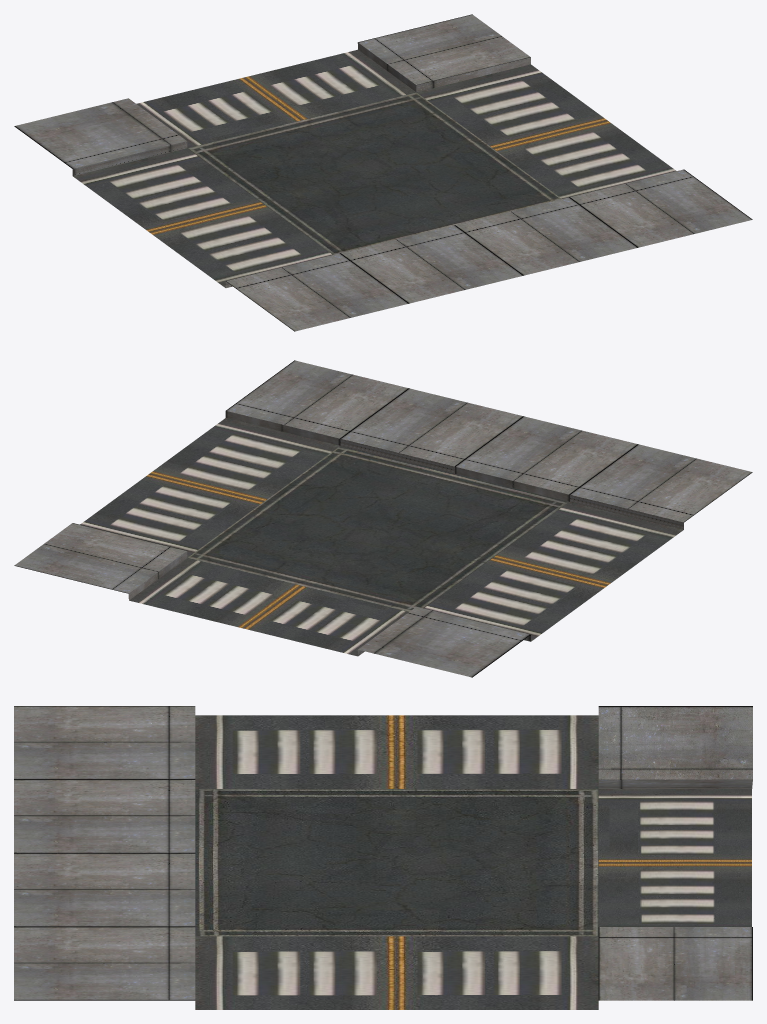
File: square4.glb
3 renders of one model, top to bottom at view 1: azimuth 30°, elevation 25°; view 2: azimuth 150°, elevation 25°; view 3: azimuth 270°, elevation 25°, orthographic. The views are drawn at different scales.
Parts seen in each view (by area): view 1: Object_6.002, Object_5.002, Object_4.002; view 2: Object_6.002, Object_5.002, Object_4.002; view 3: Object_5.002, Object_6.002, Object_4.002.
Part boxes in pixels (bbox=[...]): Object_6.002: bbox=[14, 14, 752, 331]; Object_5.002: bbox=[73, 49, 676, 287]; Object_4.002: bbox=[187, 92, 561, 254]; Object_6.002: bbox=[14, 360, 752, 677]; Object_5.002: bbox=[80, 418, 683, 656]; Object_4.002: bbox=[187, 446, 568, 611]; Object_5.002: bbox=[195, 715, 751, 1009]; Object_6.002: bbox=[14, 706, 752, 1000]; Object_4.002: bbox=[195, 789, 598, 936].
Size of the model in its own units: 7.11 by 0.1054 by 7.54.
Materials: 3 (3 with a texture image).
